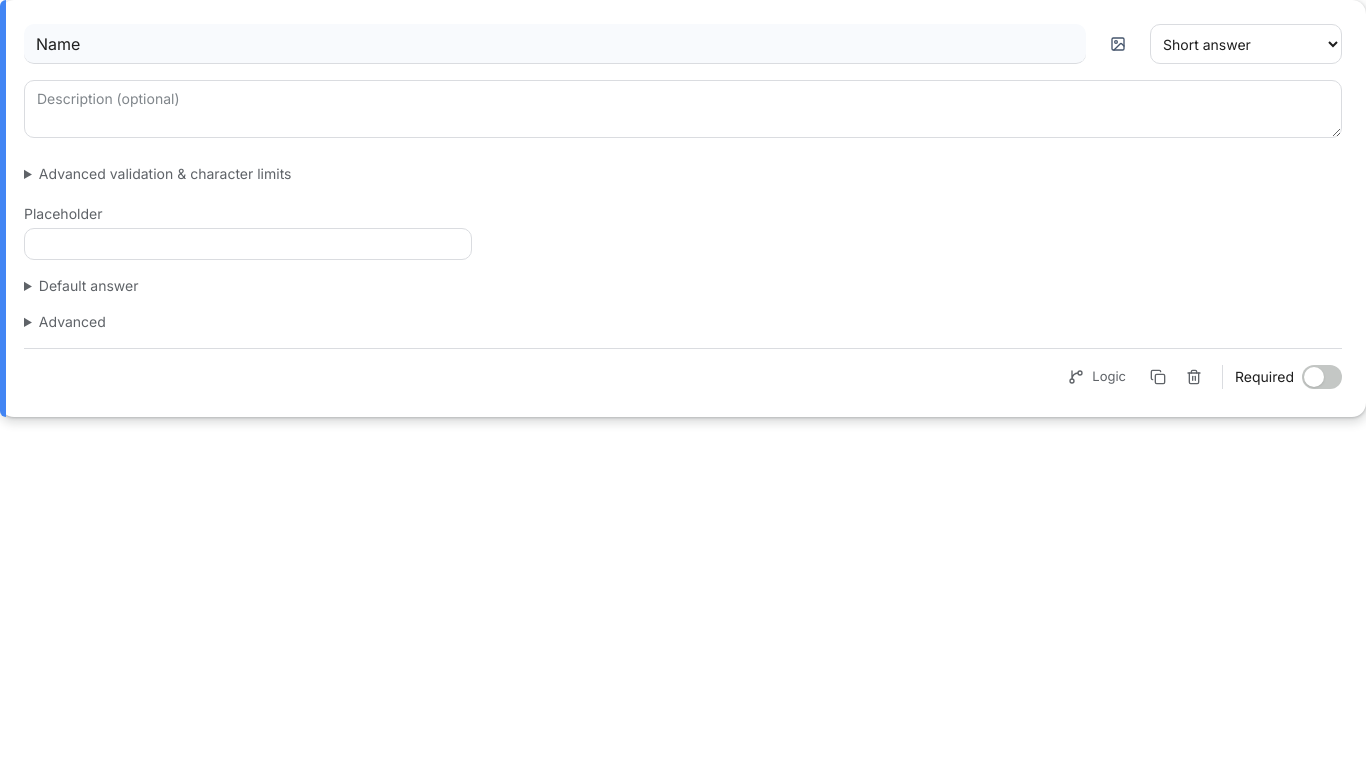
Test: deleting a question that has answers › asks first, and Cancel keeps the question
This screenshot has width=1366, height=768.
Step 1. Click the button named "Delete" → x=1194, y=377, box [1178, 361, 1210, 393]
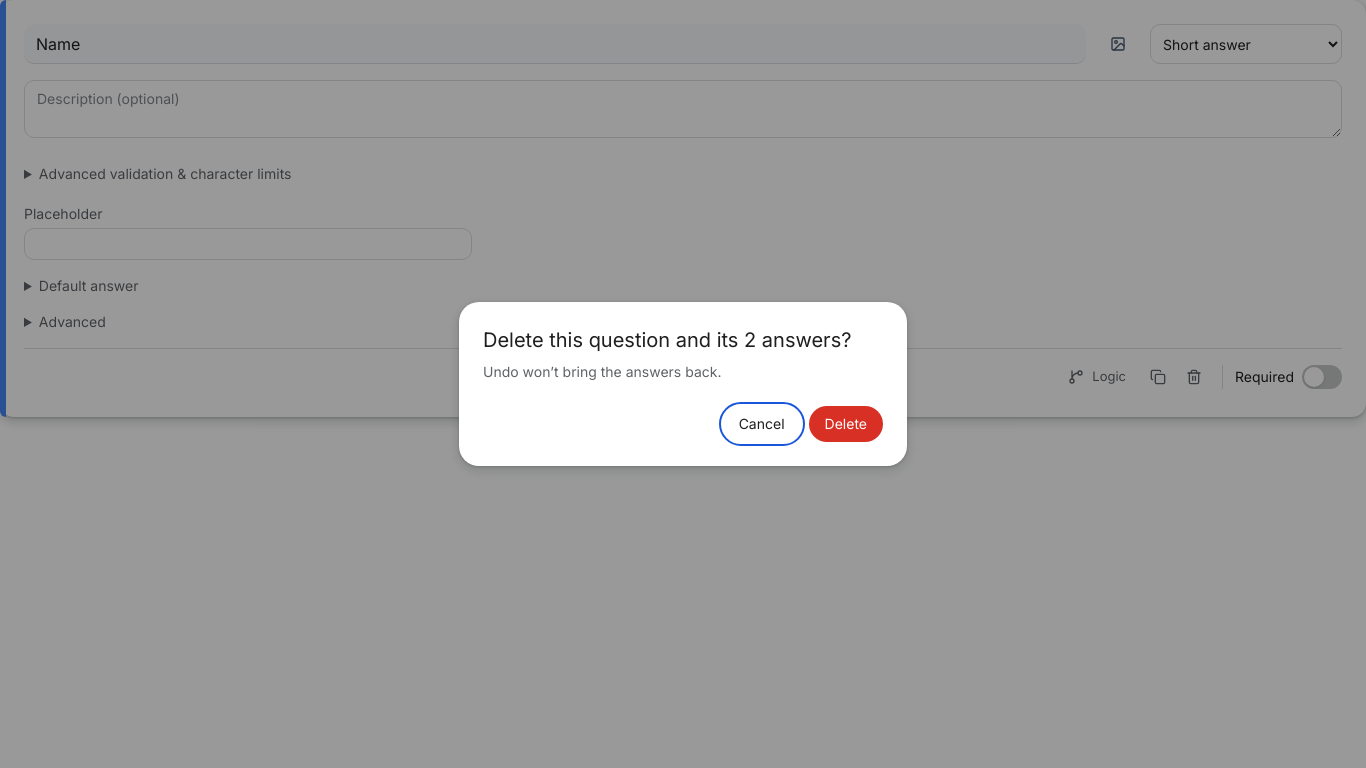
Check: the dialog shows "Delete this question and its 2 answers?", box [483, 328, 851, 352]
Check: the dialog shows "Undo won’t bring the answers back.", box [483, 363, 722, 380]
Step 2. Click the button "Cancel" → x=762, y=424, box [723, 406, 800, 442]
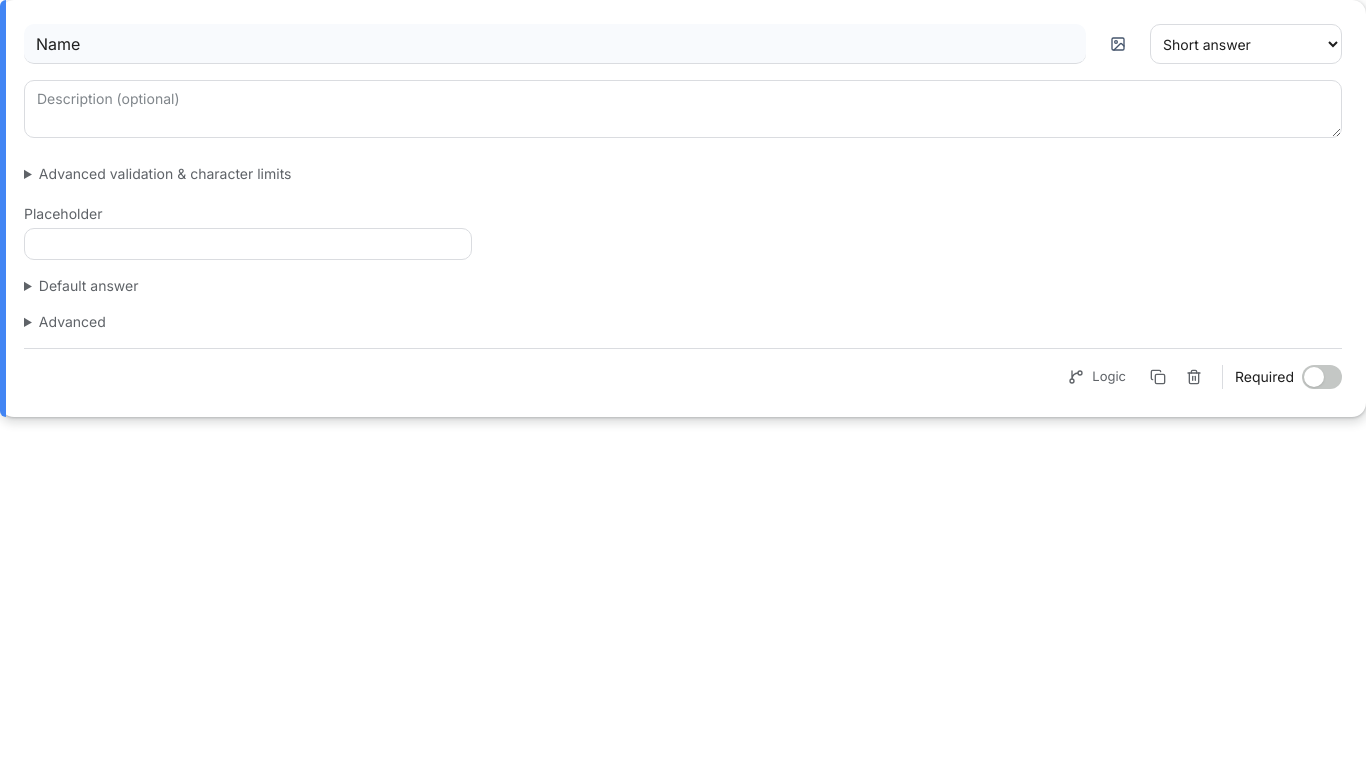
Check: the dialog is gone
